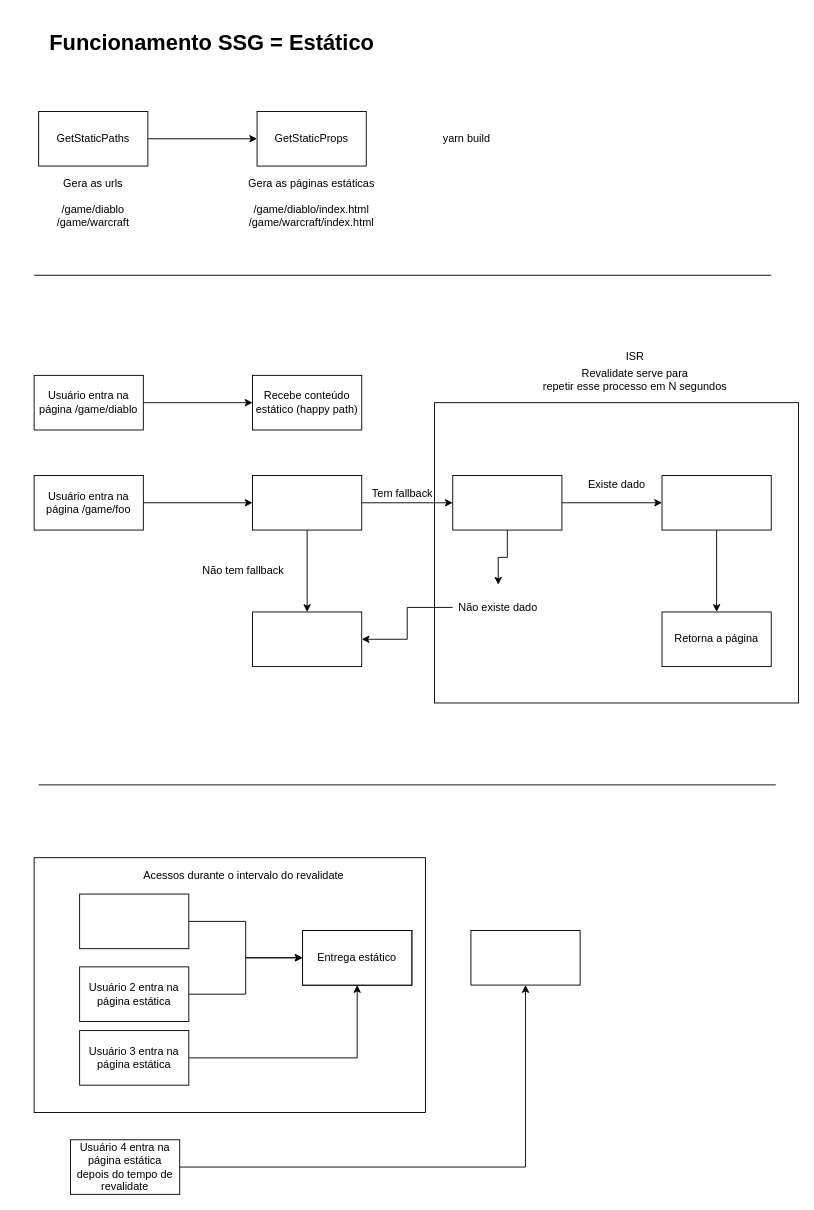
This 814x1210 diagram has some shape labels left out. Each missing label, with the box of its shape:
Busca o dado no banco e mostra a página em espera: (452, 475, 562, 530)
Entrega estático novo: (470, 930, 580, 985)
Estático não existe: (252, 475, 362, 530)
Gera estático: (661, 475, 771, 530)
Retorna 404: (252, 611, 362, 667)
Usuário 1 entra na página estática: (79, 893, 189, 949)
